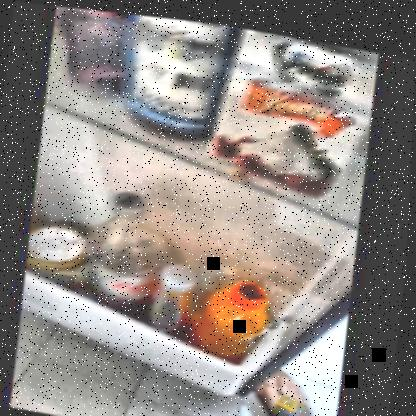heavy_cream: (227, 22, 375, 186)
